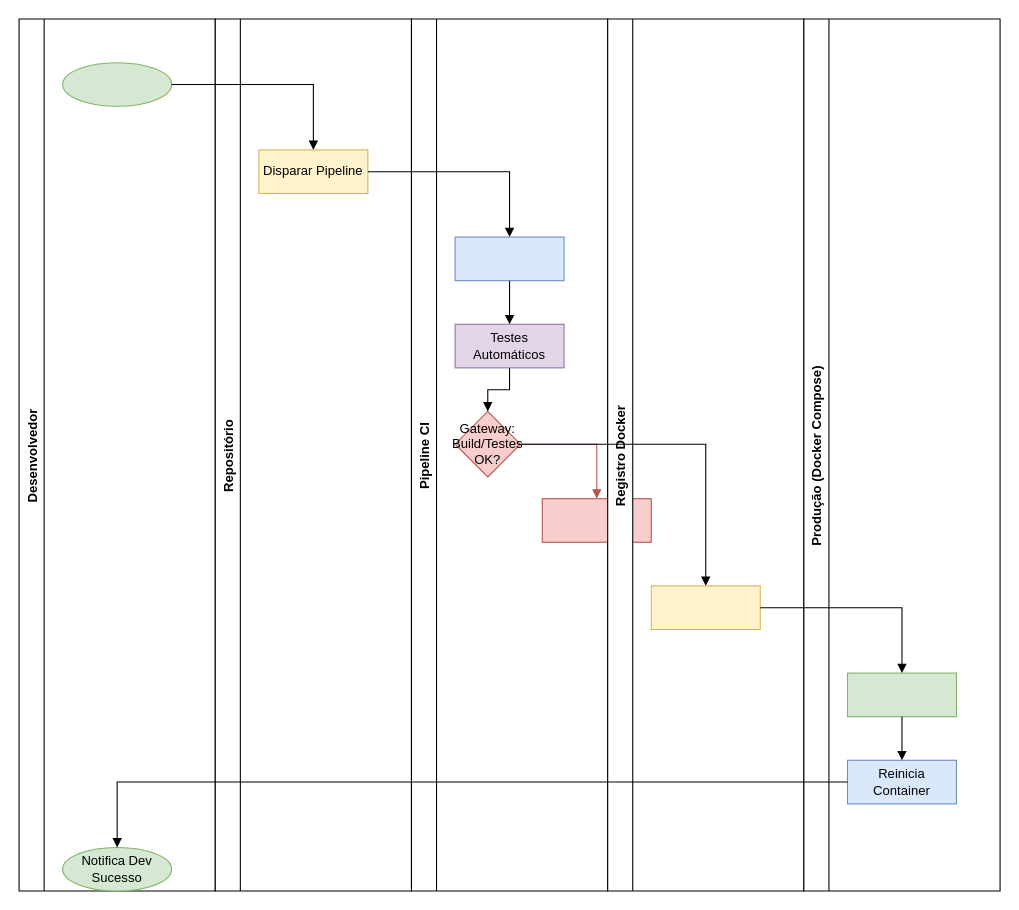
Some shapes in this 1019 by 910 pixel diagram are drawn without their labels. Here are the shapes that lost their labels. From the top down, the centre of each, then its label:
At [117,84]: "Commit/Push".
At [509,258]: "Build Docker".
At [596,520]: "Falha: Notifica Dev".
At [705,607]: "Envia Imagem Docker".
At [901,694]: "Deploy com Docker Compose".
